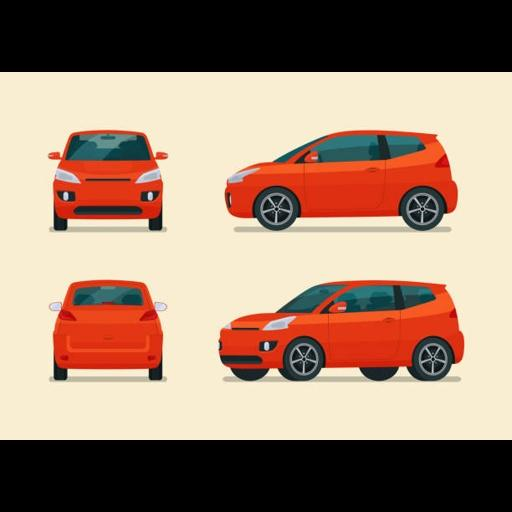hatchback: (220, 279, 463, 379), (224, 130, 457, 230), (48, 130, 166, 230), (48, 281, 165, 378)
